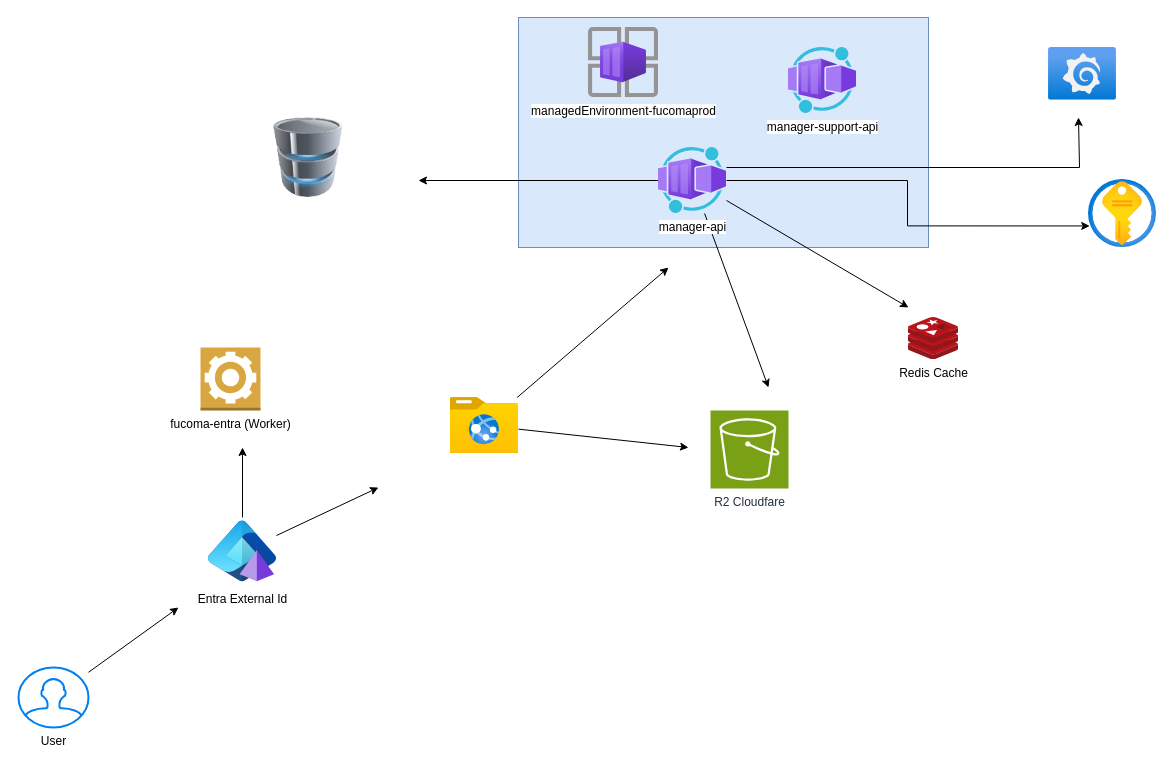
The diagram is 1173 pixels wide and 766 high, and some of its shapes have lost their labels. Here are the shapes that lost their labels. From the top down, the box of each, then its label:
(1048, 47, 1116, 100): Grafana OTLP
(268, 117, 348, 197): Azure Database for PostgreSQL - Flexible Server
(1088, 179, 1156, 247): Key Vault
(450, 397, 518, 453): fucoma-app (Cloudfare Pages)
